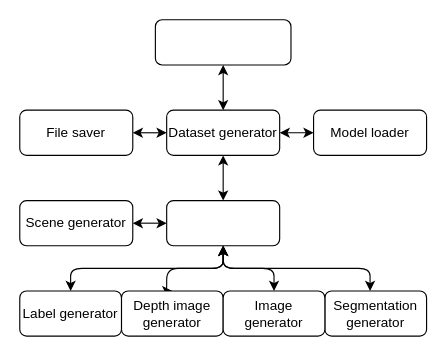
This 446x356 diagram has some shape labels left out. The box of each missing label's shape, as (x1, y1, x2, y2) in pixels:
Main: (154, 19, 291, 65)
Scene handler: (166, 199, 280, 246)
